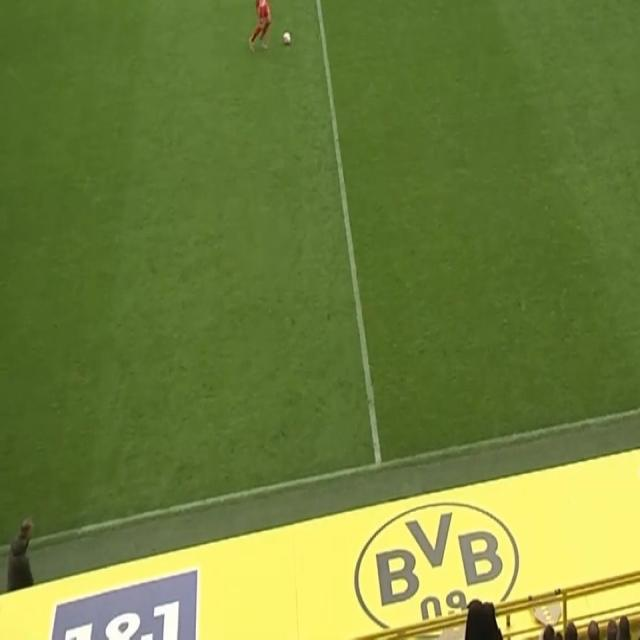ball: (282, 30, 292, 47)
